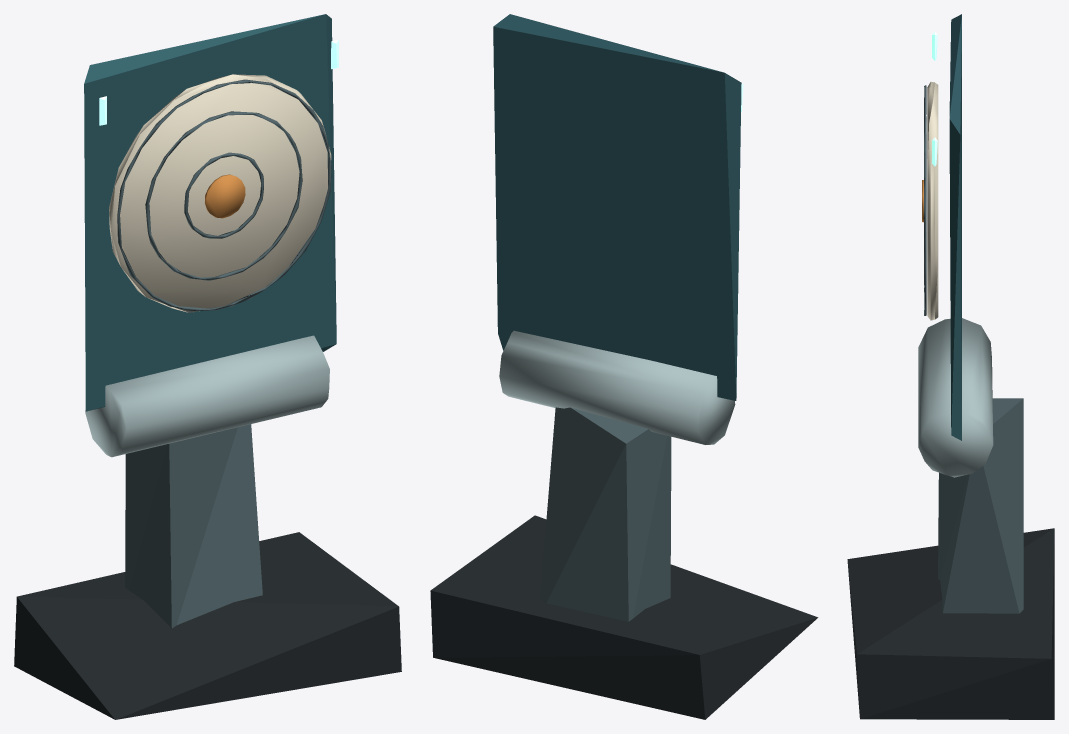
Rendered from club-shooting-target.low.glb.
3 views of the same model, side by side, from view 1: azimuth 30°, elevation 25°; view 2: azimuth 150°, elevation 25°; view 3: azimuth 270°, elevation 25° (orthographic). The views are drawn at different scales.
Parts seen in each view (by area): view 1: geometry:body:0, geometry:plate:3, geometry:plate:4, geometry:body:1, geometry:body:2, geometry:plate:5, geometry:plate:6; view 2: geometry:plate:3, geometry:body:0, geometry:body:1, geometry:body:2; view 3: geometry:body:0, geometry:body:1, geometry:body:2, geometry:plate:3, geometry:plate:4, geometry:plate:5.
Part boxes in pixels (x1,y1,x2,y2): geometry:body:0: (14, 532, 401, 719); geometry:plate:3: (84, 14, 336, 411); geometry:plate:4: (109, 74, 331, 312); geometry:body:1: (125, 424, 262, 628); geometry:body:2: (85, 335, 329, 457); geometry:plate:5: (117, 79, 331, 311); geometry:plate:6: (205, 174, 245, 218); geometry:plate:3: (493, 14, 741, 400); geometry:body:0: (430, 515, 818, 719); geometry:body:1: (540, 407, 671, 621); geometry:body:2: (499, 330, 735, 444); geometry:body:0: (847, 528, 1054, 719); geometry:body:1: (938, 398, 1023, 613); geometry:body:2: (918, 318, 993, 477); geometry:plate:3: (949, 14, 961, 440); geometry:plate:4: (927, 81, 938, 320); geometry:plate:5: (924, 85, 926, 315).
Bounding box in the file's own units: 0.759 × 1.56 × 0.497.
